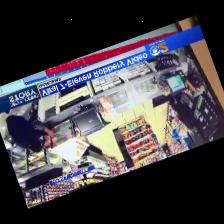person: (6, 102, 54, 151), (170, 93, 198, 131)
